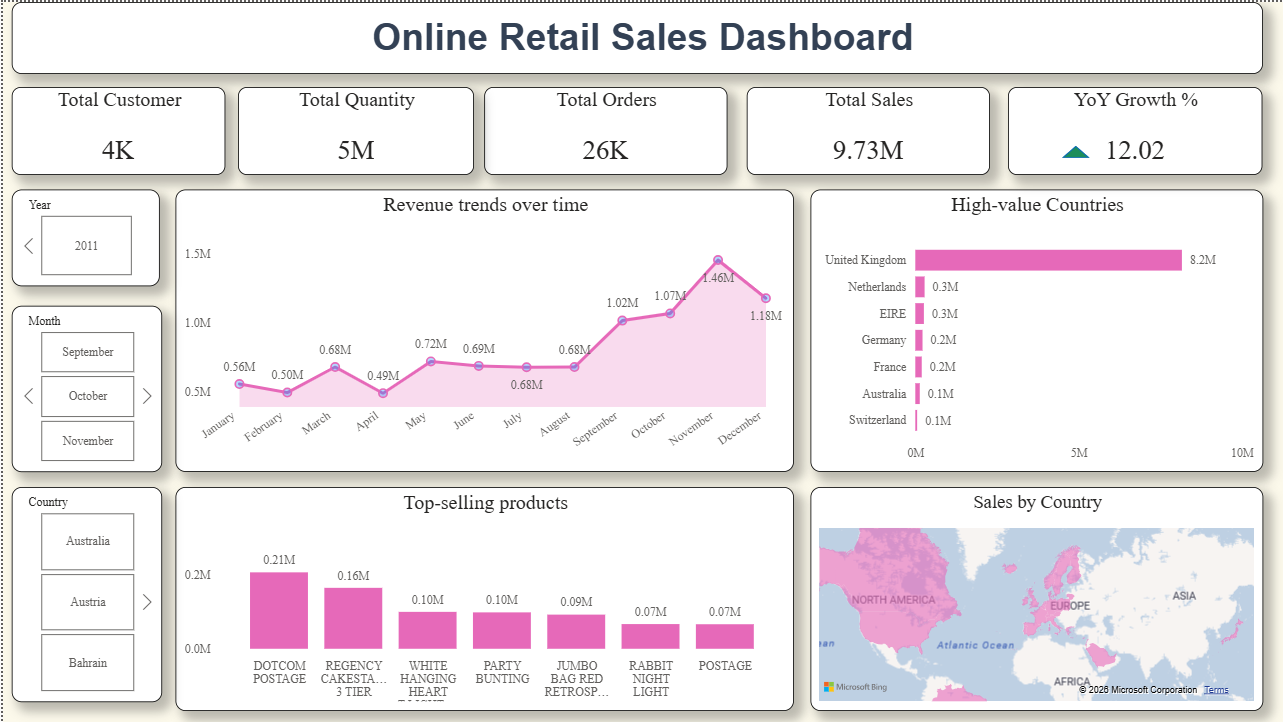

This screenshot's page, from the dashboard's own definition file:
{"tool":"powerbi","page":{"name":"Page 1","canvas":[1280,720],"ordinal":0},"visuals":[{"type":"textbox","box":[8.6,0,1251,72.1],"z":0},{"type":"cardVisual","title":"Total Customer","fields":{"Data":["online_retail.Total Customers"]},"box":[8.6,85.6,214,88],"z":1000},{"type":"cardVisual","title":"Total Orders","fields":{"Data":["online_retail.Total Orders"]},"box":[481.8,85.6,243.3,88],"z":2000},{"type":"cardVisual","title":"Total Quantity","fields":{"Data":["online_retail.Total Quantity"]},"box":[234.8,85.6,236,88],"z":3000},{"type":"cardVisual","title":"Total Sales","fields":{"Data":["online_retail.Total Sales"]},"box":[743.5,85.6,243.3,88],"z":4000},{"type":"lineChart","title":"Revenue trends over time","fields":{"Y":["Sum(online_retail.Sales)"],"Category":["online_retail.InvoiceDate.Variation.Date Hierarchy.Month"]},"box":[172.4,187.1,618.8,282.5],"z":5000},{"type":"clusteredColumnChart","title":"Top-selling products","fields":{"Y":["Sum(online_retail.Sales)"],"Category":["online_retail.Description"]},"box":[172.4,485.5,618.8,223.8],"z":6000},{"type":"barChart","title":"High-value Countries","fields":{"Y":["Sum(online_retail.Sales)"],"Category":["online_retail.Country"]},"box":[807.1,187.1,452.4,282.5],"z":7000},{"type":"filledMap","title":" Sales by Country","fields":{"Category":["online_retail.Country"]},"box":[807.1,485.5,452.4,223.8],"z":8000},{"type":"cardVisual","title":"YoY Growth %","fields":{"Data":["online_retail.YoY Growth %"]},"box":[1005.2,85.6,254.3,88],"z":9000},{"type":"shape","box":[1059,144.3,28.1,12.2],"z":10000},{"type":"slicer","fields":{"Values":["online_retail.InvoiceDate.Variation.Date Hierarchy.Year"]},"box":[8.6,187.1,148,96.6],"z":10001},{"type":"slicer","fields":{"Values":["online_retail.InvoiceDate.Variation.Date Hierarchy.Month"]},"box":[8.6,303.3,150.4,166.3],"z":10002},{"type":"slicer","fields":{"Values":["online_retail.Country"]},"box":[8.6,485.5,150.4,215.2],"z":10003}]}

Visuals, with their boxes in screenshot pixels (x1, y1, x2, y2), scaled from the page's 1280x720 canvas onto the 1283x722 screenshot:
textbox: (9, 0, 1263, 72)
"Total Customer" cardVisual: (9, 86, 223, 174)
"Total Orders" cardVisual: (483, 86, 727, 174)
"Total Quantity" cardVisual: (235, 86, 472, 174)
"Total Sales" cardVisual: (745, 86, 989, 174)
"Revenue trends over time" lineChart: (173, 188, 793, 471)
"Top-selling products" clusteredColumnChart: (173, 487, 793, 711)
"High-value Countries" barChart: (809, 188, 1262, 471)
" Sales by Country" filledMap: (809, 487, 1262, 711)
"YoY Growth %" cardVisual: (1008, 86, 1262, 174)
shape: (1061, 145, 1090, 157)
slicer - online_retail.InvoiceDate.Variation.Date Hierarchy.Year: (9, 188, 157, 284)
slicer - online_retail.InvoiceDate.Variation.Date Hierarchy.Month: (9, 304, 159, 471)
slicer - online_retail.Country: (9, 487, 159, 703)
